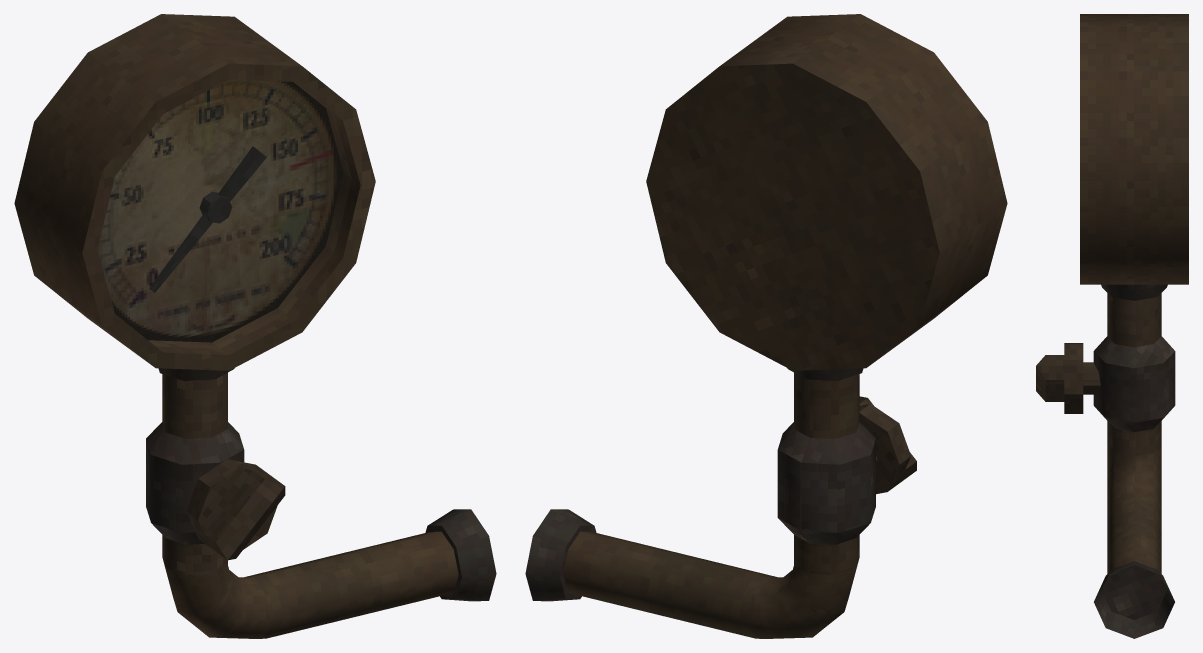
Rendered from gauge_etx_3_1.glb.
3 views of the same model, side by side, from view 1: azimuth 30°, elevation 25°; view 2: azimuth 150°, elevation 25°; view 3: azimuth 270°, elevation 25° (orthographic). The views are drawn at different scales.
Parts seen in each view (by area): view 1: gauge_etx_3_1, gauge_etx_3_1_tiny_valve_child, gauge_pointer_etx_3_1_child; view 2: gauge_etx_3_1, gauge_etx_3_1_tiny_valve_child; view 3: gauge_etx_3_1, gauge_etx_3_1_tiny_valve_child.
Part boxes in pixels (x1=…): gauge_etx_3_1: x1=14, y1=14, x2=496, y2=638; gauge_etx_3_1_tiny_valve_child: x1=186, y1=459, x2=285, y2=560; gauge_pointer_etx_3_1_child: x1=149, y1=146, x2=266, y2=292; gauge_etx_3_1: x1=525, y1=14, x2=1007, y2=638; gauge_etx_3_1_tiny_valve_child: x1=859, y1=396, x2=916, y2=494; gauge_etx_3_1: x1=1080, y1=14, x2=1188, y2=638; gauge_etx_3_1_tiny_valve_child: x1=1036, y1=343, x2=1100, y2=413.
Bounding box in the file's own units: 0.288 × 0.41 × 0.1124.
3 materials, 3 textured.
